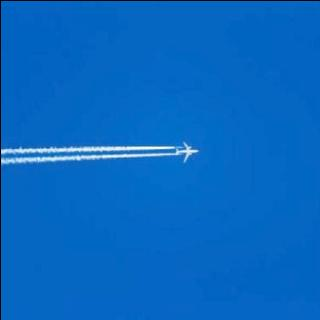Contrails: (0, 12, 320, 320)
